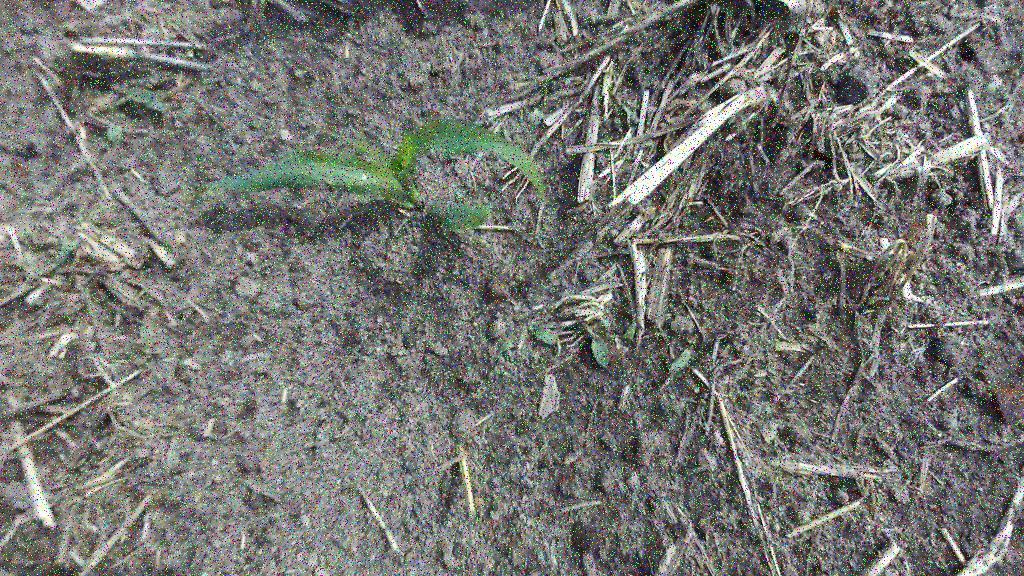BroWeed: (32, 229, 84, 284), (651, 344, 696, 399), (577, 316, 617, 372), (81, 112, 134, 153), (115, 81, 169, 119), (127, 320, 169, 364), (520, 315, 562, 349), (619, 312, 644, 345), (522, 102, 549, 131), (981, 71, 1006, 99), (62, 45, 74, 102), (494, 334, 521, 355), (622, 96, 638, 128), (774, 340, 808, 352), (798, 43, 817, 60), (605, 79, 618, 101), (612, 90, 626, 108), (1002, 94, 1014, 110)
Maize: (192, 99, 550, 236)
